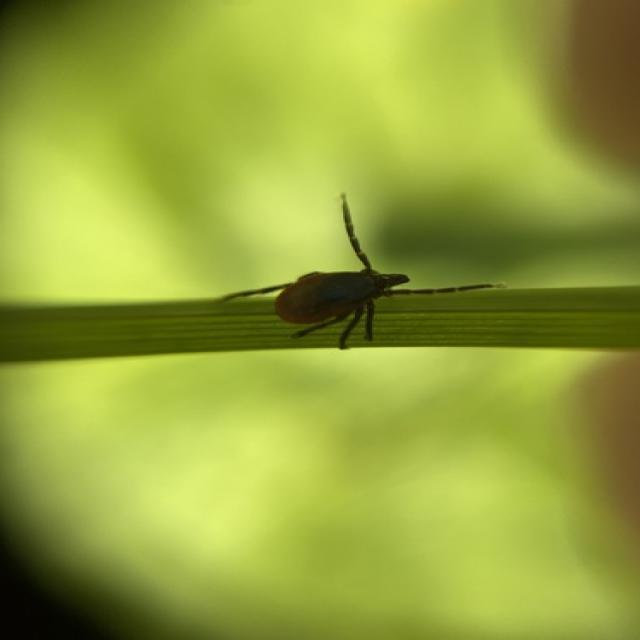Ixodes Ricinus-F: (224, 193, 507, 351)
